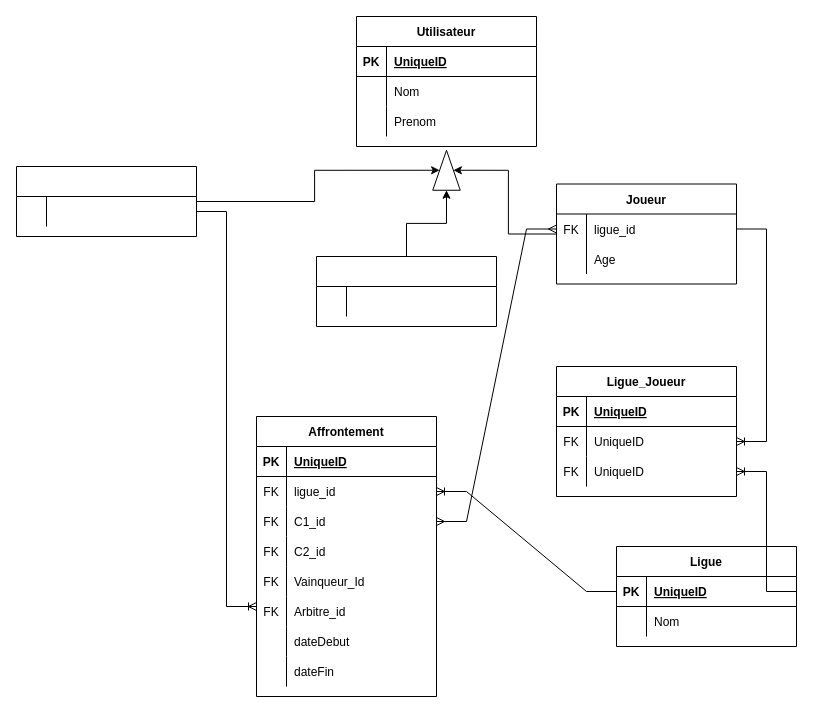
This 813x713 diagram has some shape labels left out. Here are the shapes that lost their labels. From the top down, the centre of each, then its label:
At point 106,201: "Arbitre".
At point 406,291: "Admin".
